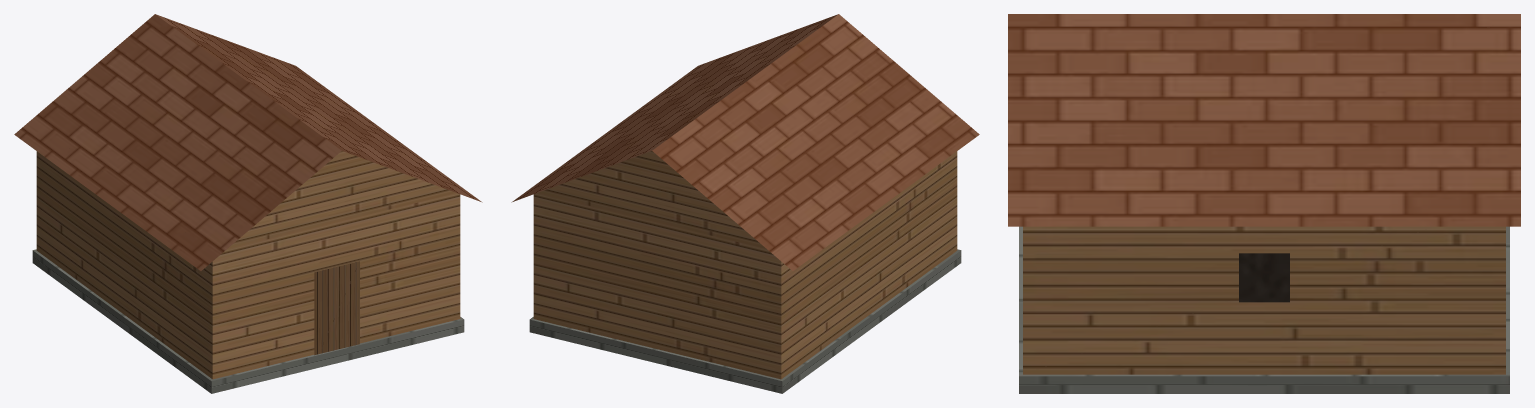
The model's file is ae_sand_wood_large_barn_lod2.glb.
3 views of the same model, side by side, from view 1: azimuth 30°, elevation 25°; view 2: azimuth 150°, elevation 25°; view 3: azimuth 270°, elevation 25° (orthographic). The views are drawn at different scales.
Parts seen in each view (by area): view 1: ae_sand_wood_large_barn_lod2; view 2: ae_sand_wood_large_barn_lod2; view 3: ae_sand_wood_large_barn_lod2.
Boxes of the visible parts, <box> form: ae_sand_wood_large_barn_lod2: <box>14,14,482,393</box>; ae_sand_wood_large_barn_lod2: <box>511,14,979,393</box>; ae_sand_wood_large_barn_lod2: <box>1008,14,1520,393</box>.
Size of the model in its own units: 7.4 by 5.4 by 8.5.
1 material, 1 textured.
